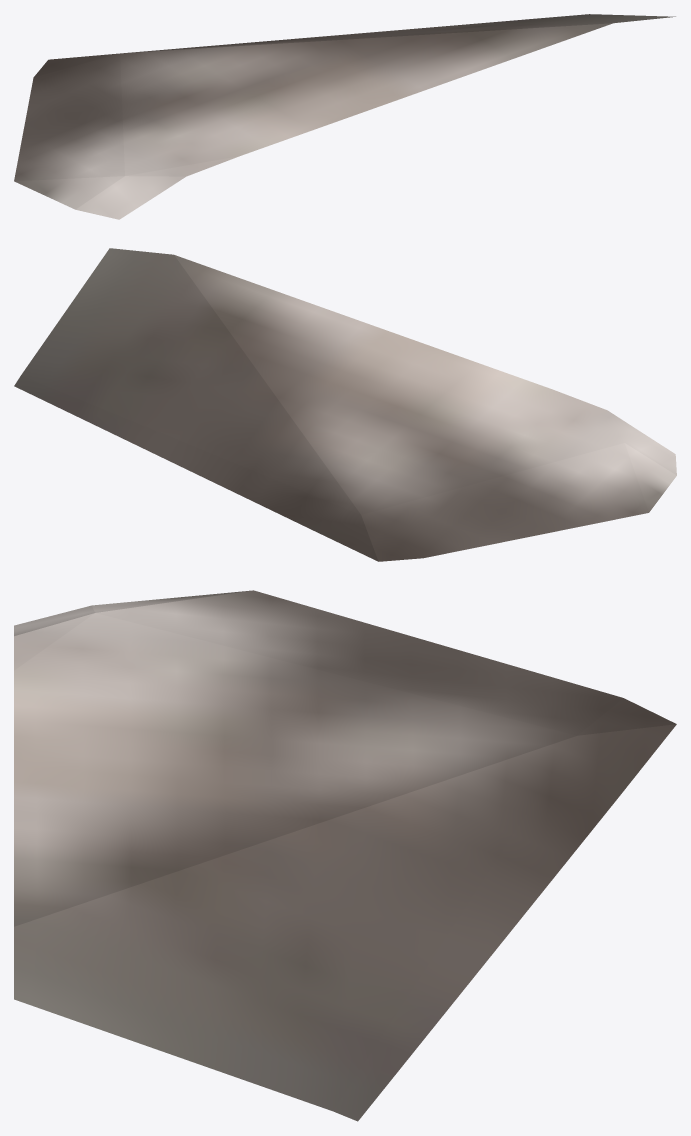
The picture shows the model from 3 angles, top to bottom: view 1: azimuth 30°, elevation 25°; view 2: azimuth 150°, elevation 25°; view 3: azimuth 270°, elevation 25°; orthographic projection. The views are drawn at different scales.
Size of the model in its own units: 0.0857 by 0.0104 by 0.0452.
1 material, 1 textured.
